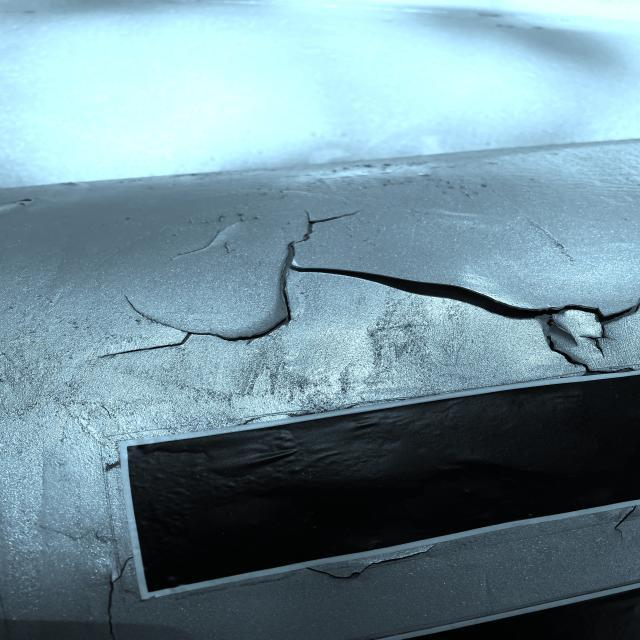crack: (264, 208, 625, 344), (91, 291, 265, 361), (157, 219, 258, 261)
